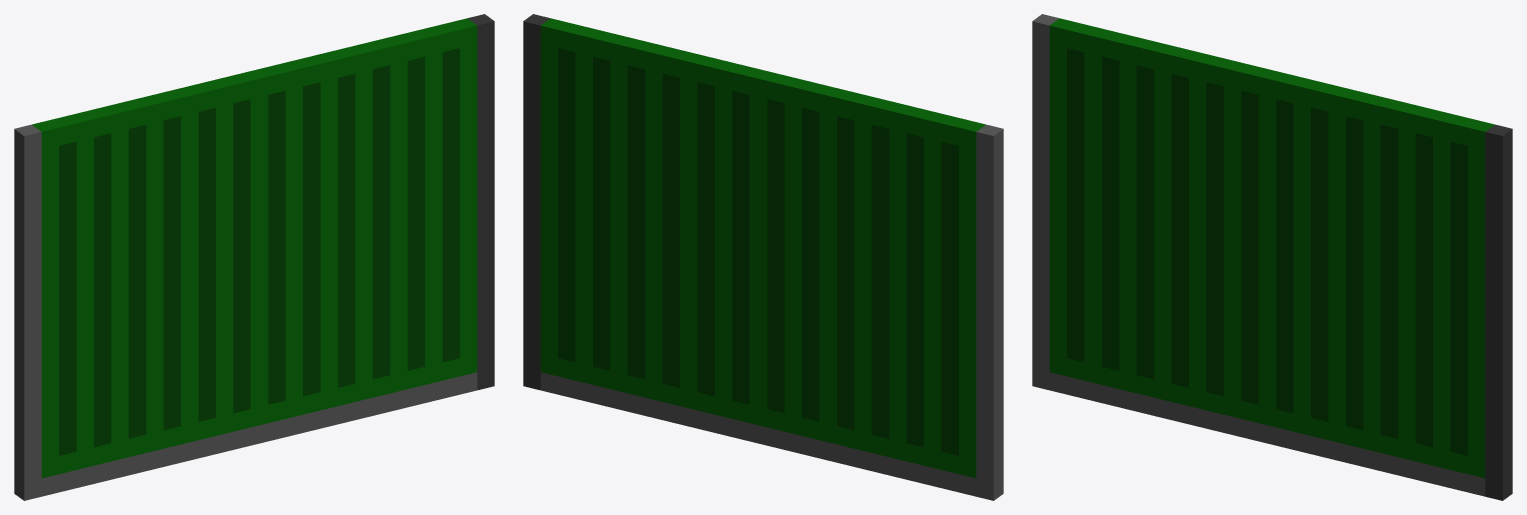
Rendered from brama.obj.
The picture shows the model from 3 angles, left to right: view 1: azimuth 30°, elevation 25°; view 2: azimuth 150°, elevation 25°; view 3: azimuth 330°, elevation 25°; orthographic projection.
Size of the model in its own units: 2.7 by 2 by 0.1.
